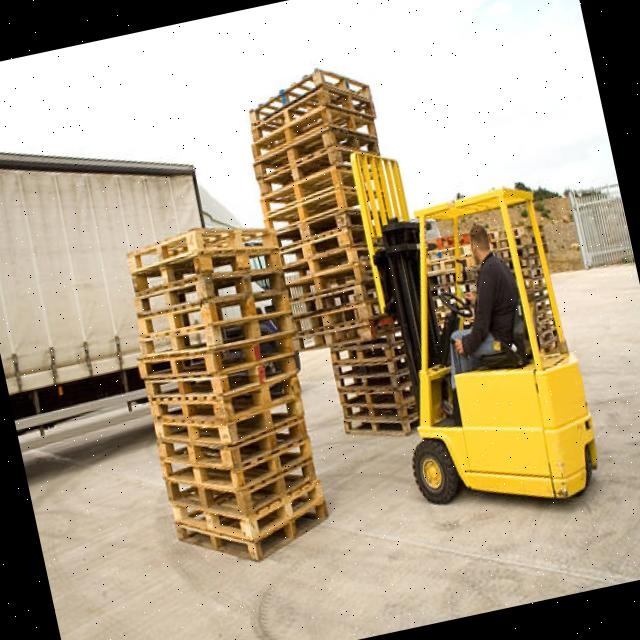Wooden-Pallets: (170, 469, 336, 550), (117, 244, 284, 310), (140, 389, 309, 447), (134, 311, 304, 366), (249, 104, 330, 164)
